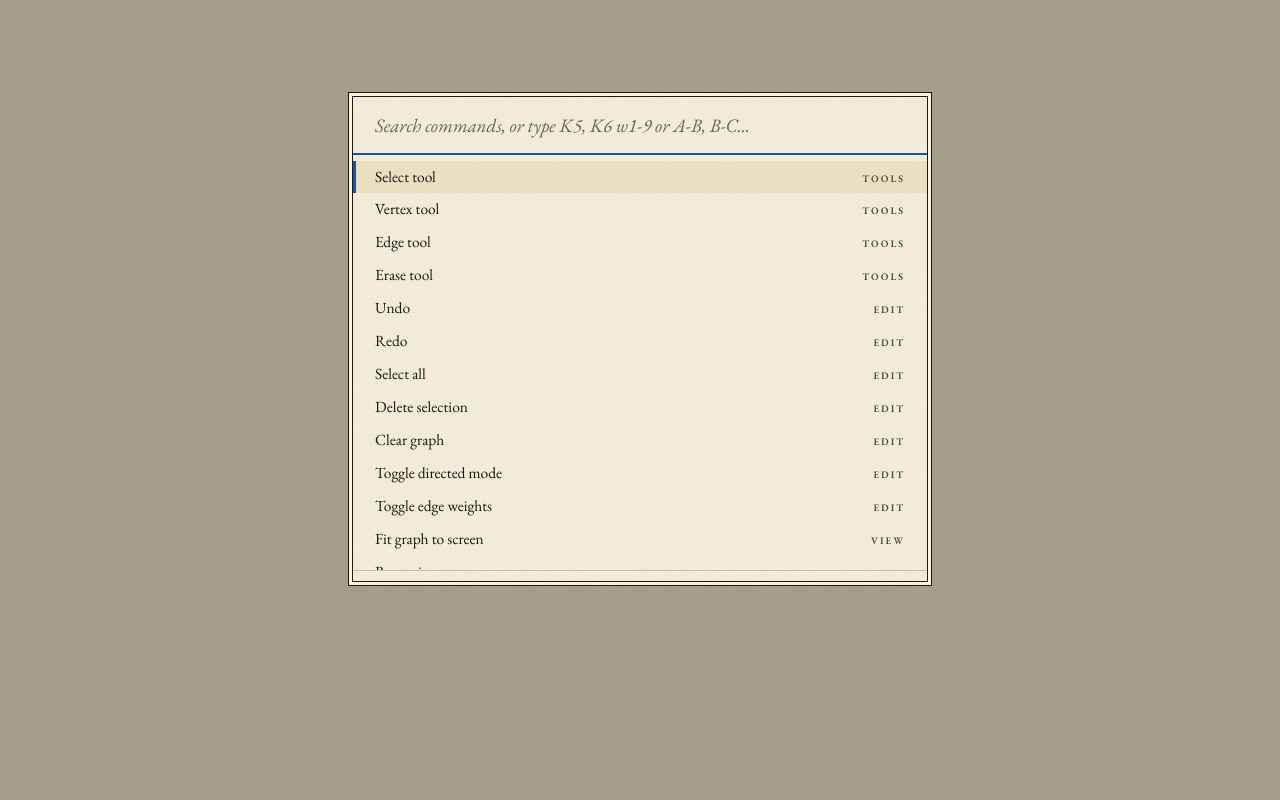
it: the command palette › still offers to generate for a graph command
In the dropdown named "Command search": (640, 126) [353,97,927,154], type "K3,3"
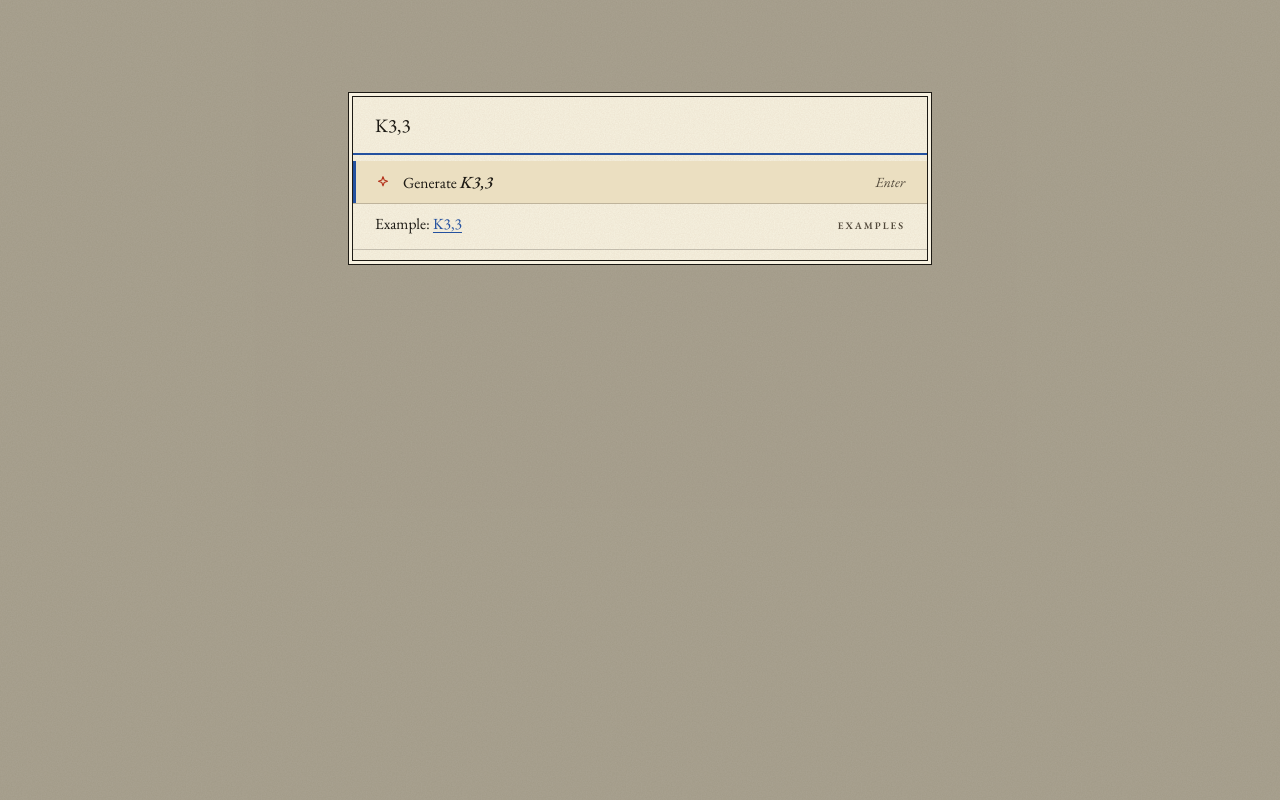
Result: the option "Generate K3,3 Enter" is shown at [353,160,927,204]
